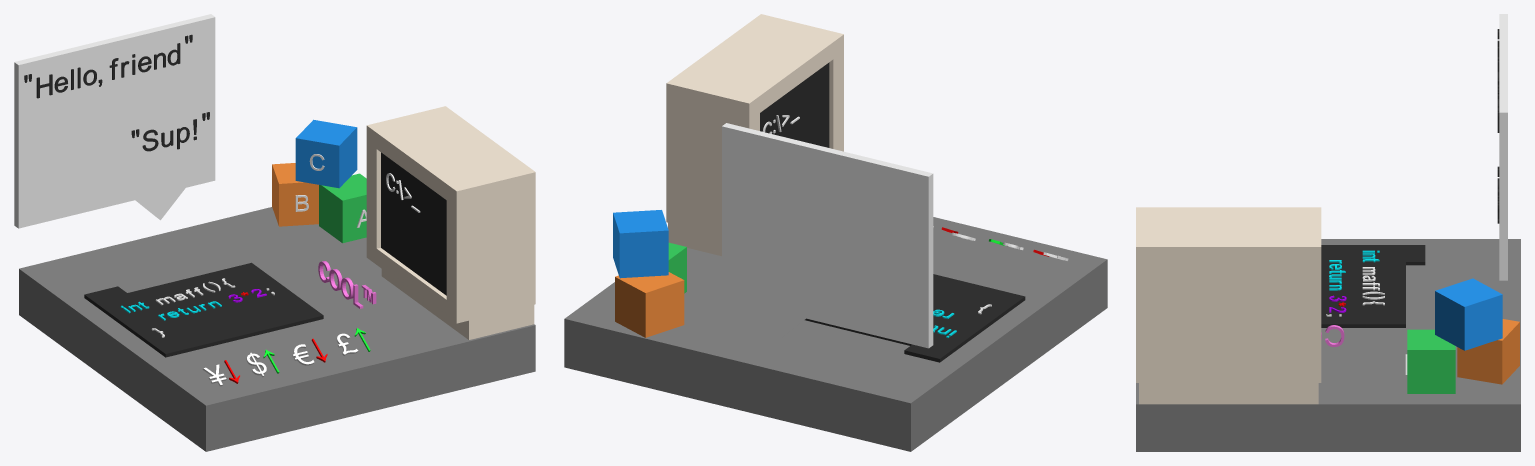
3 views of the same model, side by side, from view 1: azimuth 30°, elevation 25°; view 2: azimuth 150°, elevation 25°; view 3: azimuth 270°, elevation 25° (orthographic). The views are drawn at different scales.
Parts seen in each view (by area): view 1: Cube, Cube (11), Cube (5), Cube (13), Cube (6), Cube (3), Cube (1), Cube (7), Cube (2), Cube (4), Cube (9), Cube (8) (+2 smaller); view 2: Cube, Cube (11), Cube (5), Cube (13), Cube (2), Cube (3), Cube (6), Cube (7), Cube (12), Cube (9), Cube (4), Cube (1); view 3: Cube, Cube (5), Cube (13), Cube (3), Cube (4), Cube (1), Cube (2), Cube (11), Cube (7), Cube (14).
Boxes of the visible parts, box(x1,y1,x2,y2) form: Cube: box(19, 207, 535, 451); Cube (11): box(14, 14, 215, 228); Cube (5): box(376, 106, 535, 320); Cube (13): box(93, 262, 323, 357); Cube (6): box(381, 152, 446, 295); Cube (3): box(295, 119, 357, 188); Cube (1): box(319, 173, 366, 243); Cube (7): box(366, 123, 466, 207); Cube (2): box(272, 163, 318, 226); Cube (4): box(381, 269, 534, 339); Cube (9): box(446, 200, 466, 306); Cube (8): box(366, 248, 466, 323); Cube: box(564, 217, 1107, 451); Cube (11): box(722, 123, 933, 348); Cube (5): box(666, 14, 833, 235); Cube (13): box(805, 274, 1025, 354); Cube (2): box(615, 272, 684, 337); Cube (3): box(613, 210, 668, 278); Cube (6): box(760, 62, 829, 147); Cube (7): box(739, 32, 843, 120); Cube (12): box(739, 249, 824, 339); Cube (9): box(829, 52, 843, 151); Cube (4): box(668, 222, 721, 256); Cube (1): box(668, 242, 686, 293); Cube: box(1136, 239, 1520, 451); Cube (5): box(1136, 212, 1321, 382); Cube (13): box(1321, 245, 1405, 327); Cube (3): box(1435, 278, 1502, 350); Cube (4): box(1139, 383, 1318, 404); Cube (1): box(1407, 329, 1455, 393); Cube (2): box(1457, 319, 1519, 384); Cube (11): box(1499, 14, 1507, 280); Cube (7): box(1136, 207, 1321, 212); Cube (14): box(1406, 245, 1425, 265).
Size of the model in its own units: 16.7 by 12.19 by 15.9.
